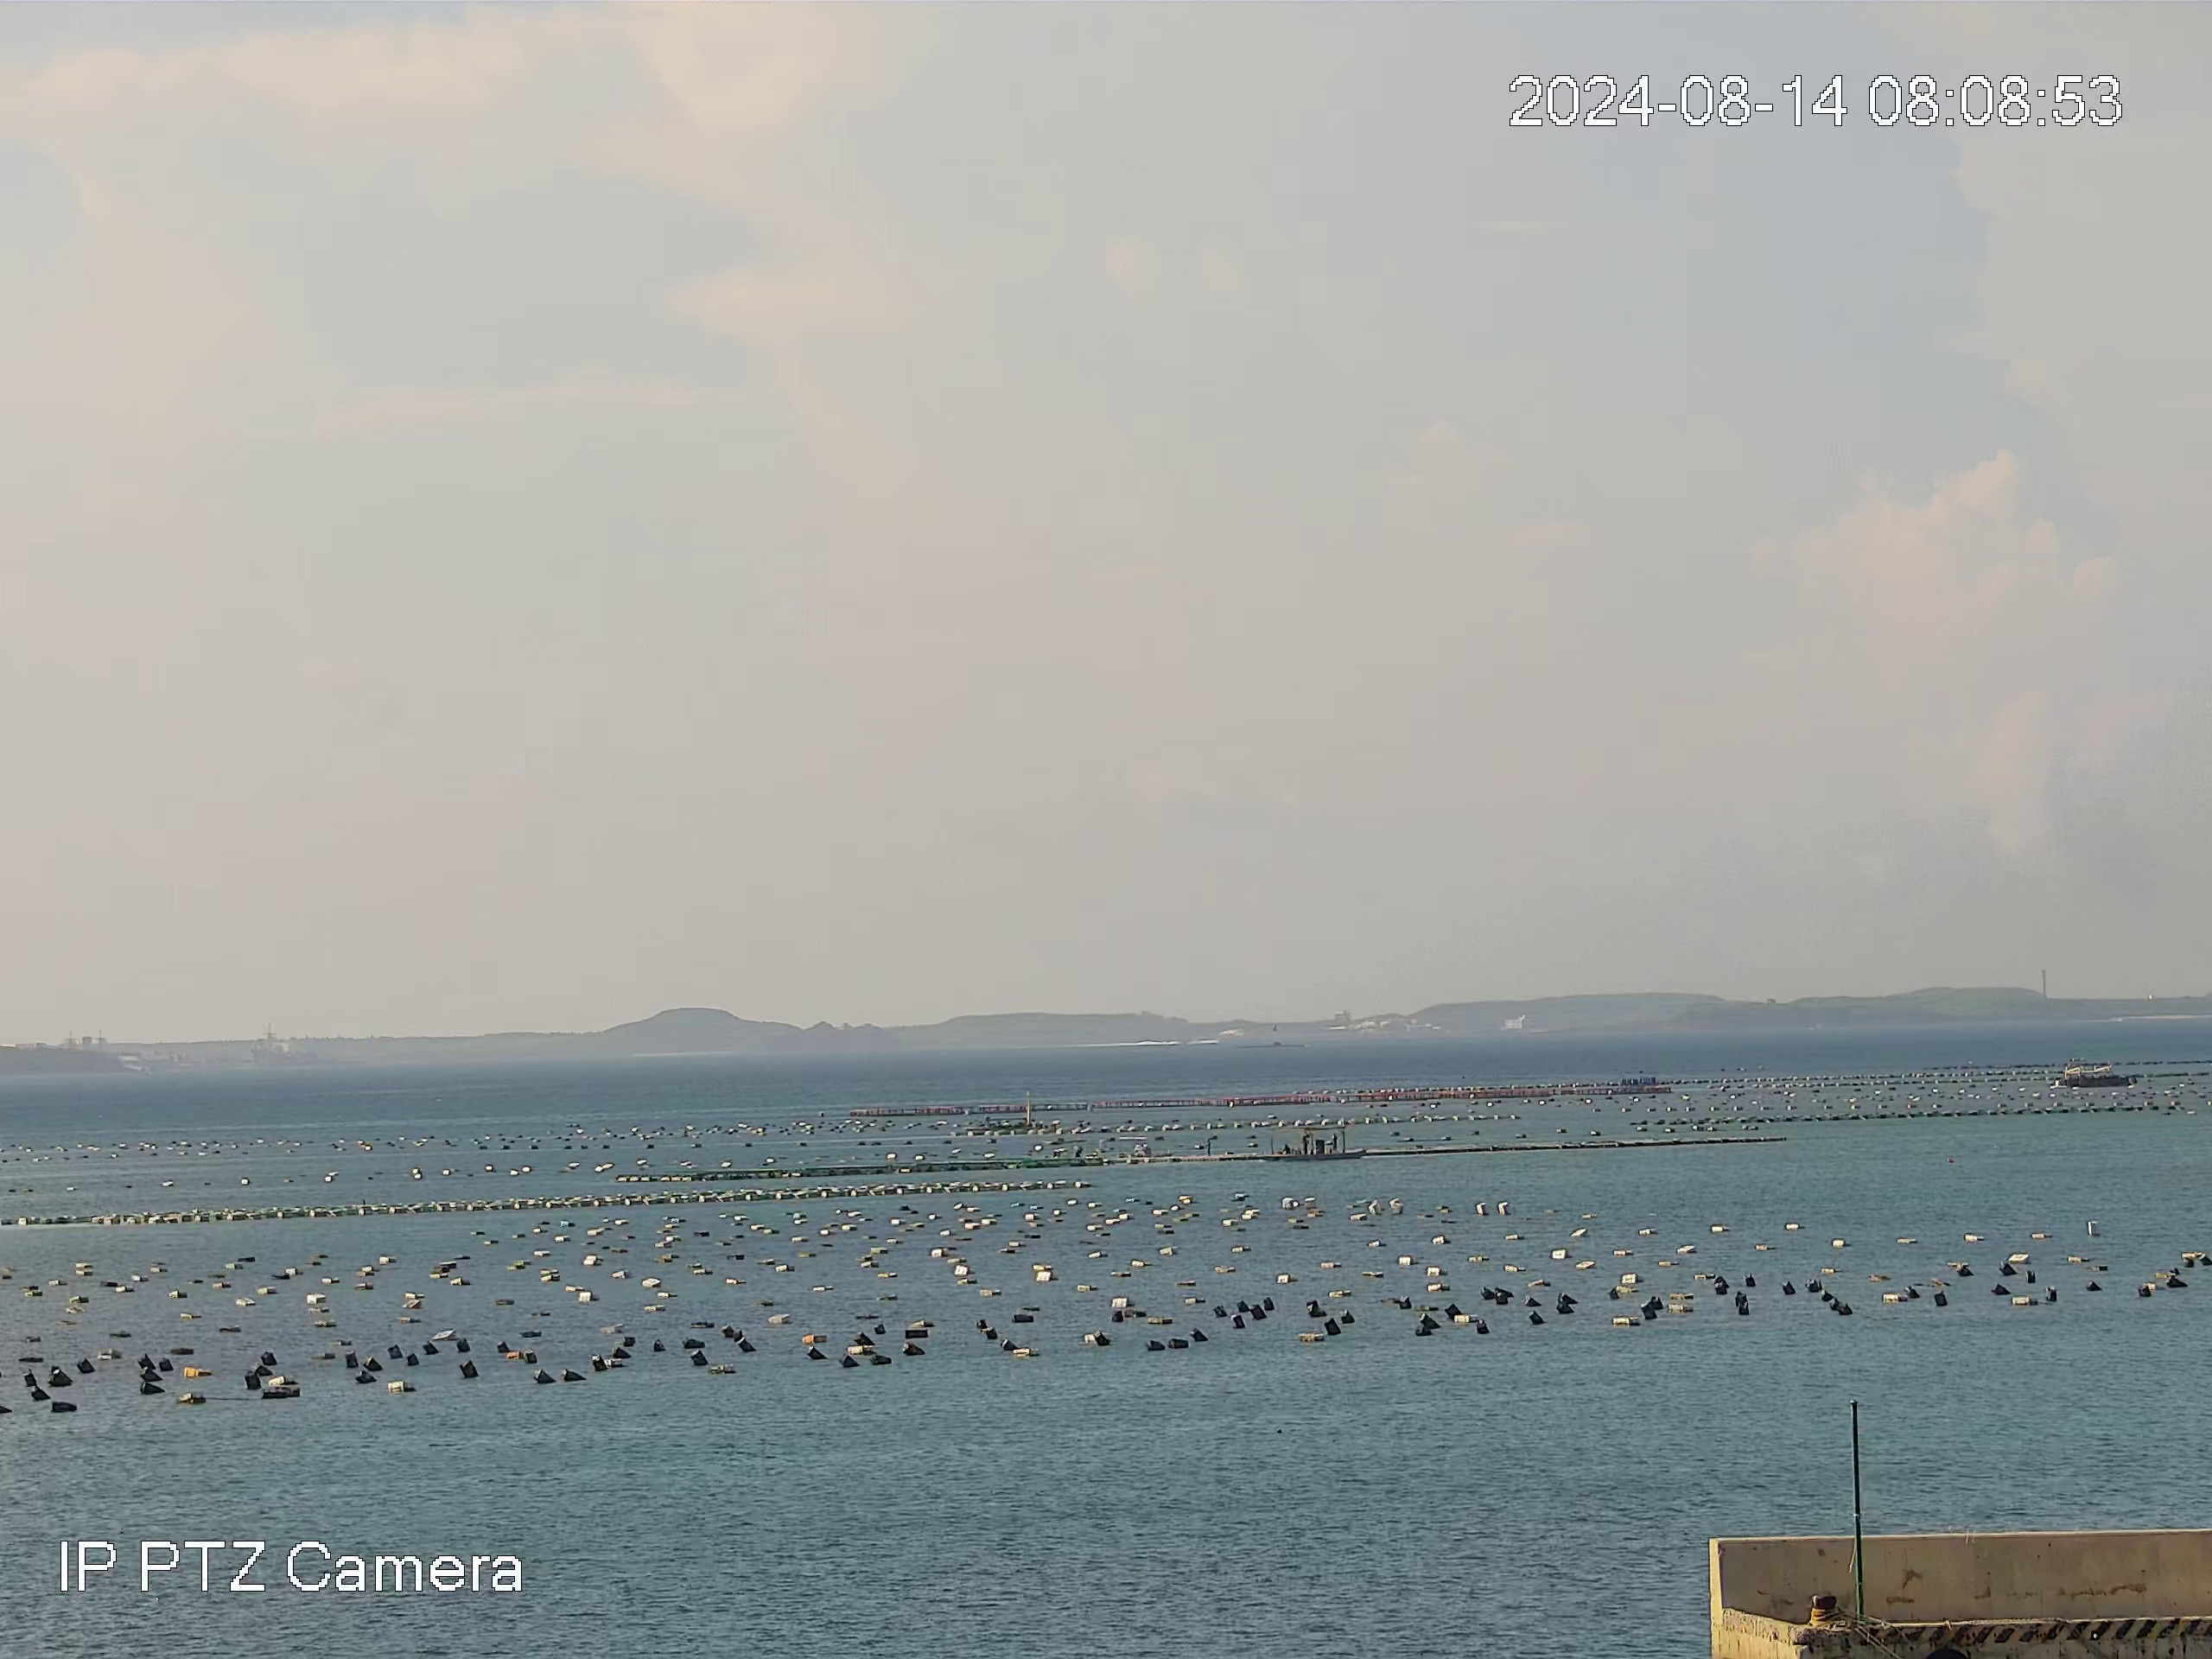boat: (1263, 1124, 1366, 1164), (2057, 1061, 2132, 1087)
